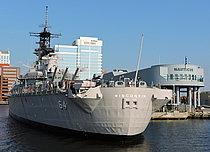MIL_Ship: (5, 25, 155, 142)
